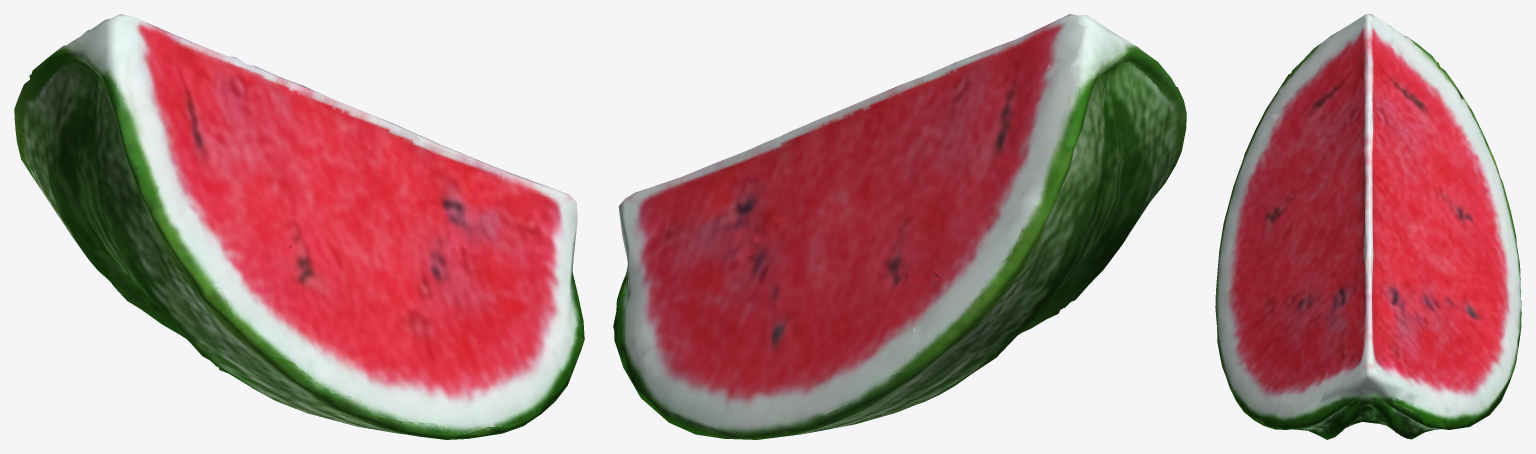
The picture shows the model from 3 angles, left to right: view 1: azimuth 30°, elevation 25°; view 2: azimuth 150°, elevation 25°; view 3: azimuth 270°, elevation 25°; orthographic projection. The views are drawn at different scales.
Visible parts, largest first — view 1: part_0_body.012_12; view 2: part_0_body.012_12; view 3: part_0_body.012_12.
Boxes of the visible parts, x1,y1,x2,y2 form: part_0_body.012_12: (14,14,584,439); part_0_body.012_12: (613,14,1186,439); part_0_body.012_12: (1215,14,1521,439).
Bounding box in the file's own units: 0.1828 × 0.157 × 0.1406.
Materials: 2 (2 with a texture image).
